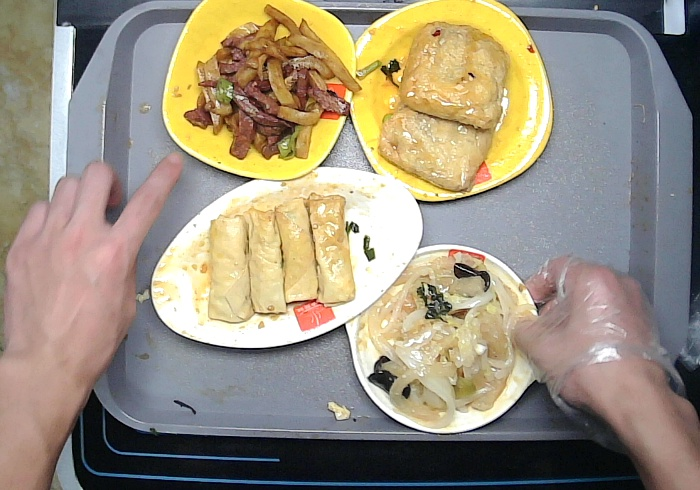SHKJ-Bao_Yu_Pan: (341, 241, 549, 438)
SHKJ-Huang_Se_Cai_Die: (158, 1, 360, 184)
SHKJ-Huang_Se_Si_Fang_Cai_Die: (345, 1, 556, 206)
SHKJ-Yu_Pan: (147, 163, 426, 354)
